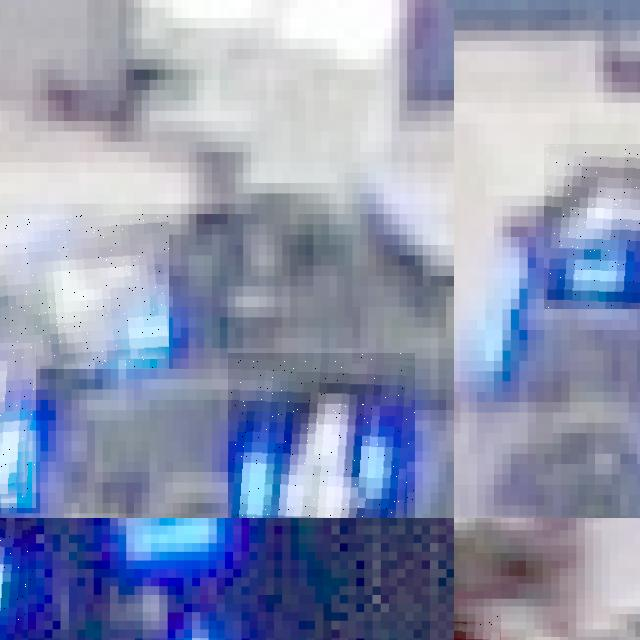B4: (227, 353, 415, 518), (0, 214, 169, 369), (544, 144, 640, 309), (0, 343, 36, 508)
